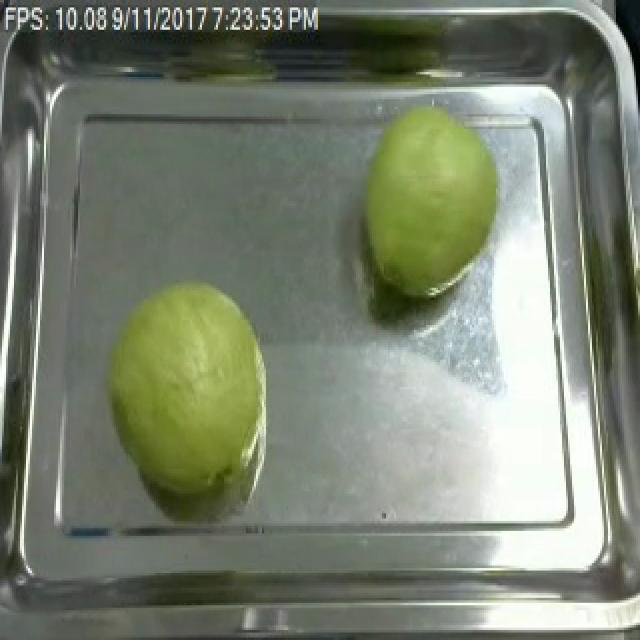Fruit: (100, 273, 282, 501), (352, 91, 512, 308)
